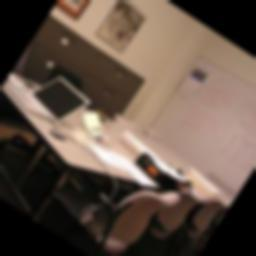Armario: (22, 15, 146, 122)
